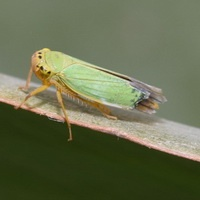insect: (18, 48, 166, 140)
